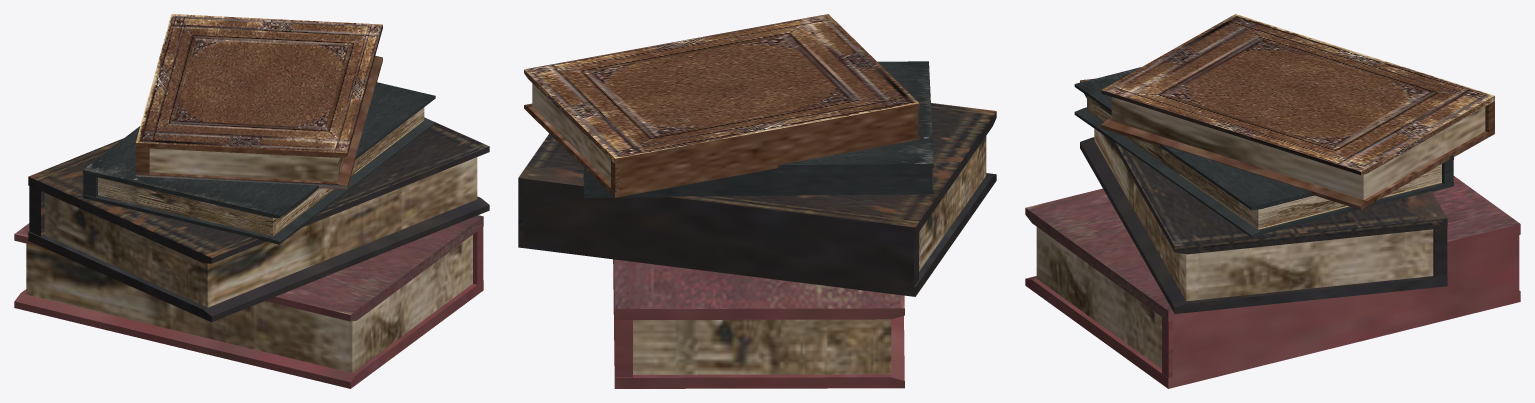
Rendered from book_stack2.fbx.
The picture shows the model from 3 angles, left to right: view 1: azimuth 30°, elevation 25°; view 2: azimuth 150°, elevation 25°; view 3: azimuth 270°, elevation 25°; orthographic projection. The views are drawn at different scales.
Parts seen in each view (by area): view 1: Cube.095; view 2: Cube.095; view 3: Cube.095.
Boxes of the visible parts, x1,y1,x2,y2 form: Cube.095: (14, 14, 489, 388); Cube.095: (518, 14, 996, 388); Cube.095: (1025, 14, 1520, 388).
Size of the model in its own units: 125 by 63.39 by 134.
